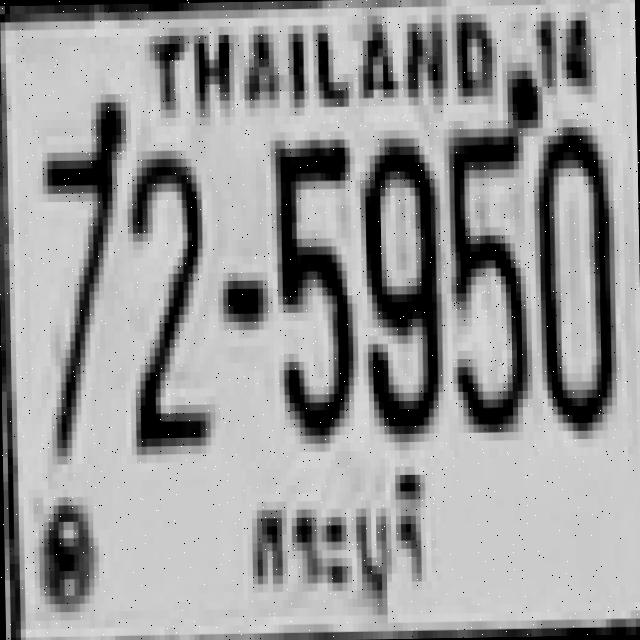0: (532, 122, 612, 427)
2: (126, 142, 206, 446)
5: (443, 120, 528, 432), (270, 130, 350, 436)
7: (36, 90, 126, 452), (36, 94, 126, 390)
9: (359, 133, 439, 430)
SaraBuri: (235, 459, 444, 640)
